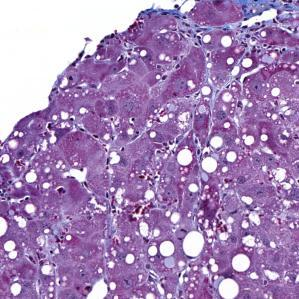fibrosis: (230, 4, 298, 26)
